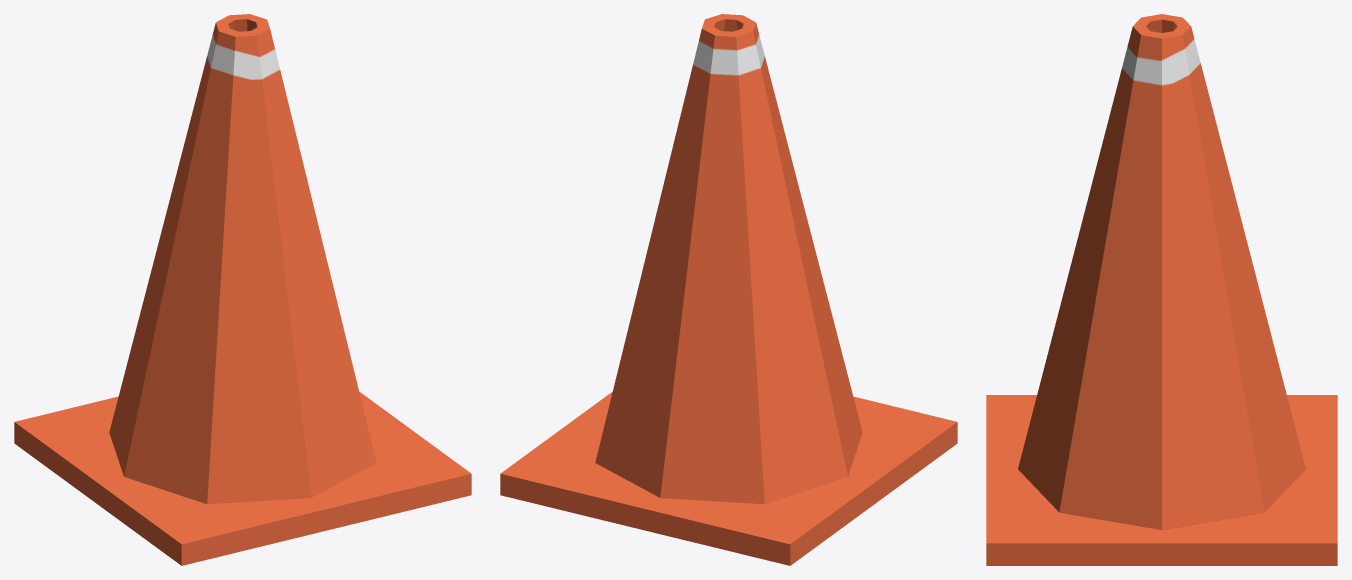
File: pylon.fbx
The picture shows the model from 3 angles, left to right: view 1: azimuth 30°, elevation 25°; view 2: azimuth 150°, elevation 25°; view 3: azimuth 270°, elevation 25°; orthographic projection. The views are drawn at different scales.
Visible parts, largest first — view 1: trafficConeGeo; view 2: trafficConeGeo; view 3: trafficConeGeo.
Part boxes in pixels (box(x1,y1,x2,y2)): trafficConeGeo: box(14, 14, 471, 565); trafficConeGeo: box(500, 14, 957, 565); trafficConeGeo: box(986, 14, 1337, 565).
Bounding box in the file's own units: 2.99 × 4.37 × 2.99.
